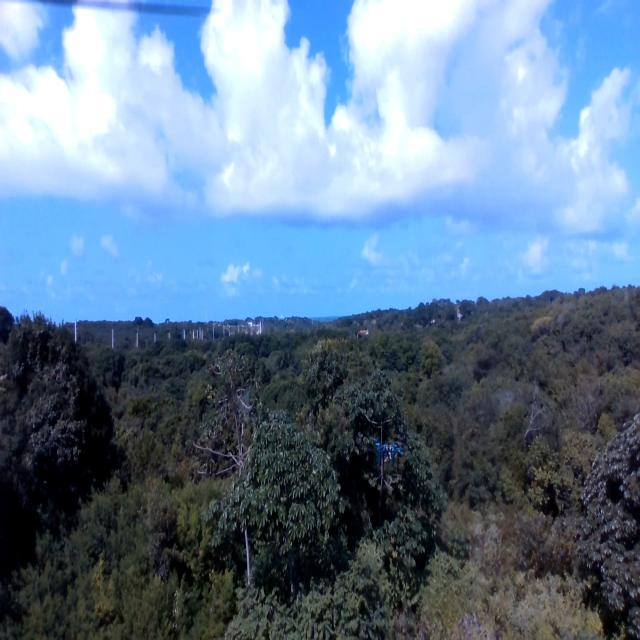-uav-: (374, 422, 404, 477)
